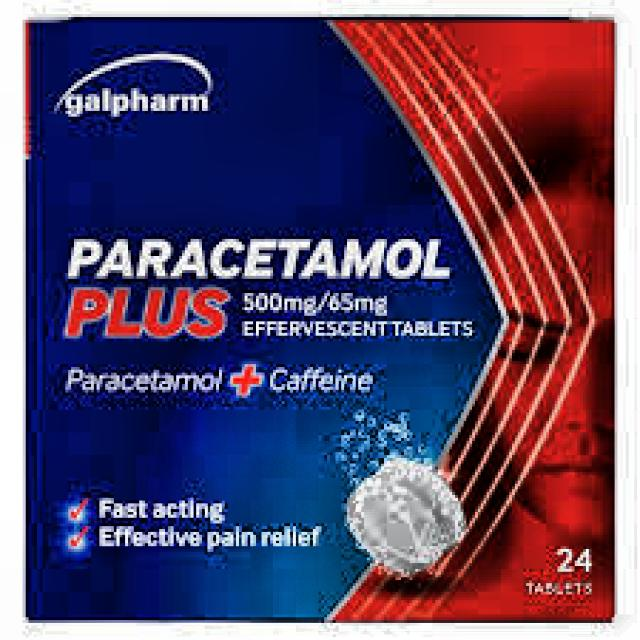Paracetamol: (52, 212, 506, 359)
